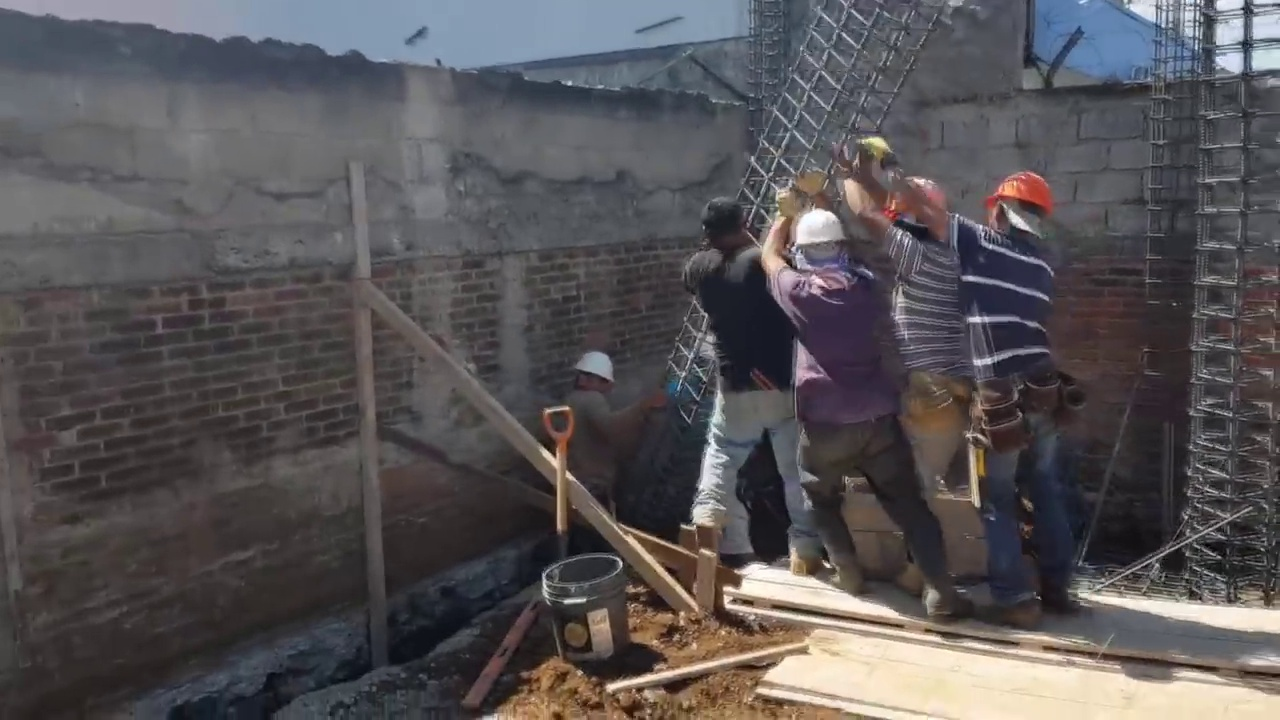helmet: (988, 168, 1058, 222), (791, 204, 853, 256), (890, 177, 951, 224), (573, 350, 617, 384)
helmet-off: (702, 199, 747, 258)
helmet-on: (787, 207, 852, 287), (985, 166, 1059, 234), (887, 175, 949, 246), (566, 347, 618, 406)
person: (764, 169, 945, 597), (938, 154, 1077, 619), (834, 142, 985, 548), (685, 200, 807, 582), (541, 353, 630, 538)
